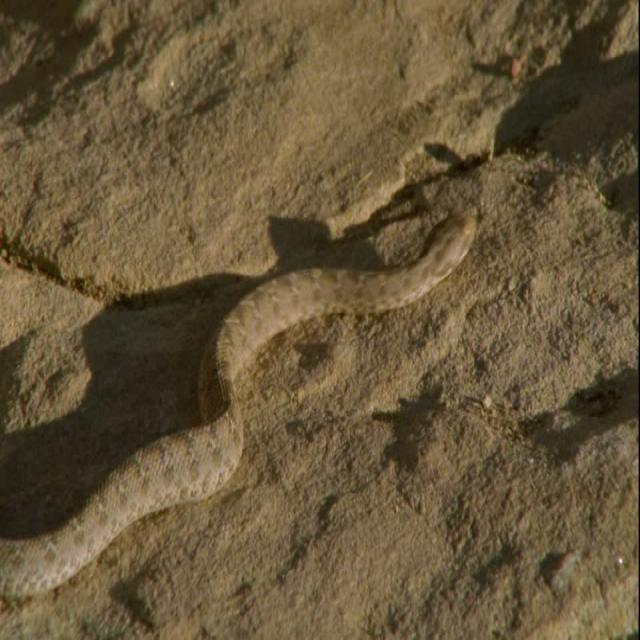Snake: (0, 203, 478, 604)
